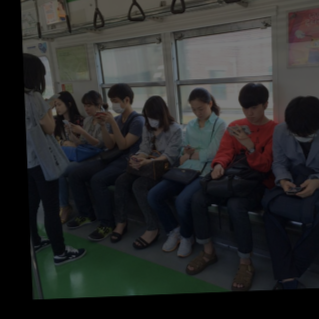with_mask: (111, 98, 125, 115), (146, 114, 160, 130)
without_mask: (241, 105, 263, 123), (190, 103, 210, 120), (82, 102, 98, 117), (53, 101, 66, 116)
